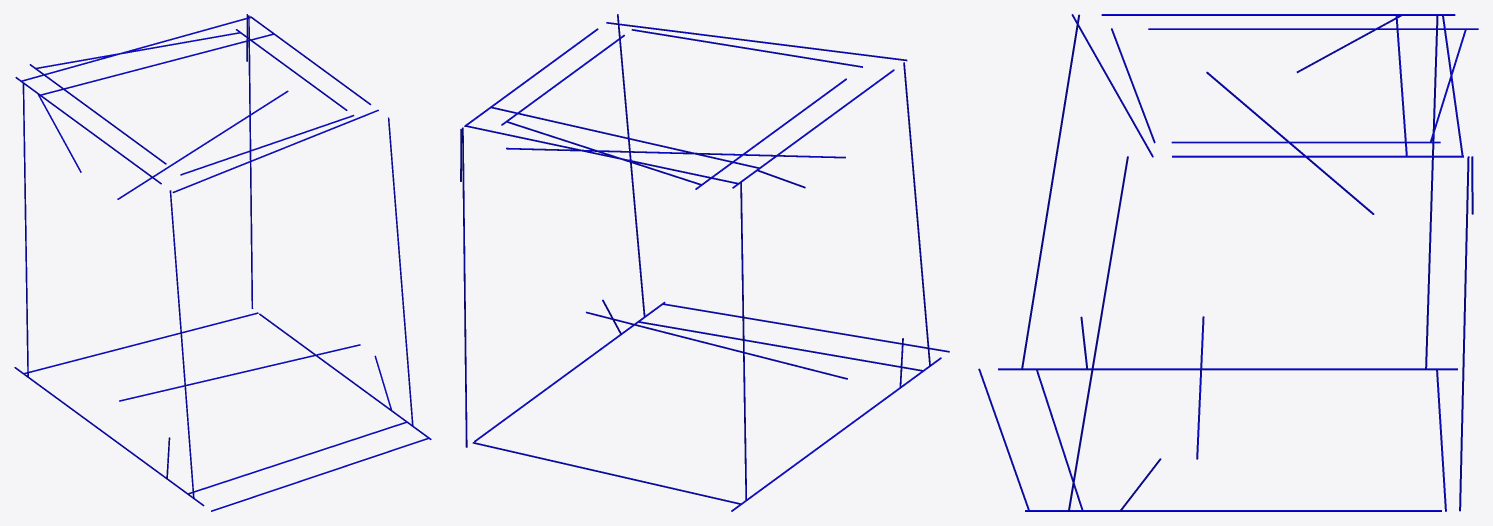
File: corrected_3d_strokes.glb
3 renders of one model, left to right at view 1: azimuth 30°, elevation 25°; view 2: azimuth 150°, elevation 25°; view 3: azimuth 270°, elevation 25°, orthographic. The views are drawn at different scales.
Parts seen in each view (by area): view 1: world; view 2: world; view 3: world.
Boxes of the visible parts, box(x1,y1,x2,y2) form: world: box(14, 14, 431, 511); world: box(460, 14, 949, 511); world: box(978, 14, 1478, 511).
Bounding box in the file's own units: 6.75 × 7.86 × 10.01.
